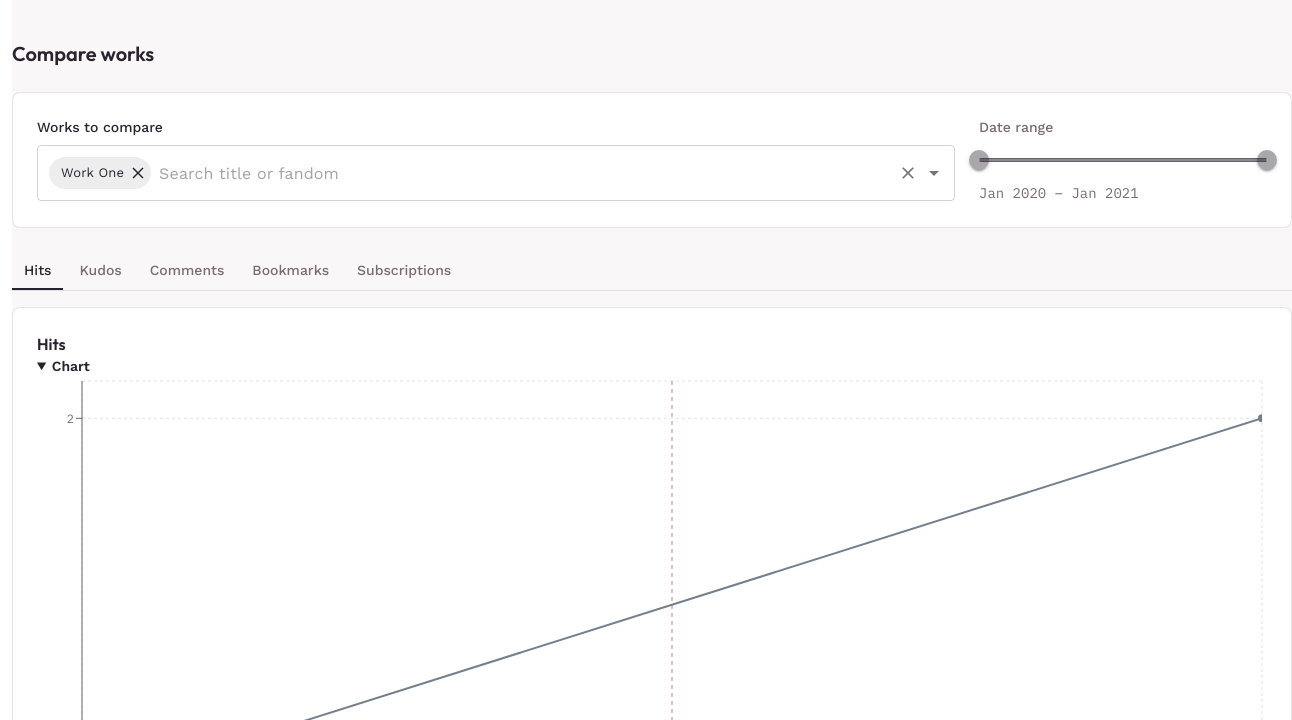
WorkComparisonSection › date-range slider DISABLED state tied to the union-points >2 gate › disables the slider again (resetting the window) once the selection drops back to <= 2 union points
This screenshot has width=1292, height=720.
Click the dropdown labelled "Works to compare" at (522, 173), box x1=154 y1=154 x2=890 y2=192
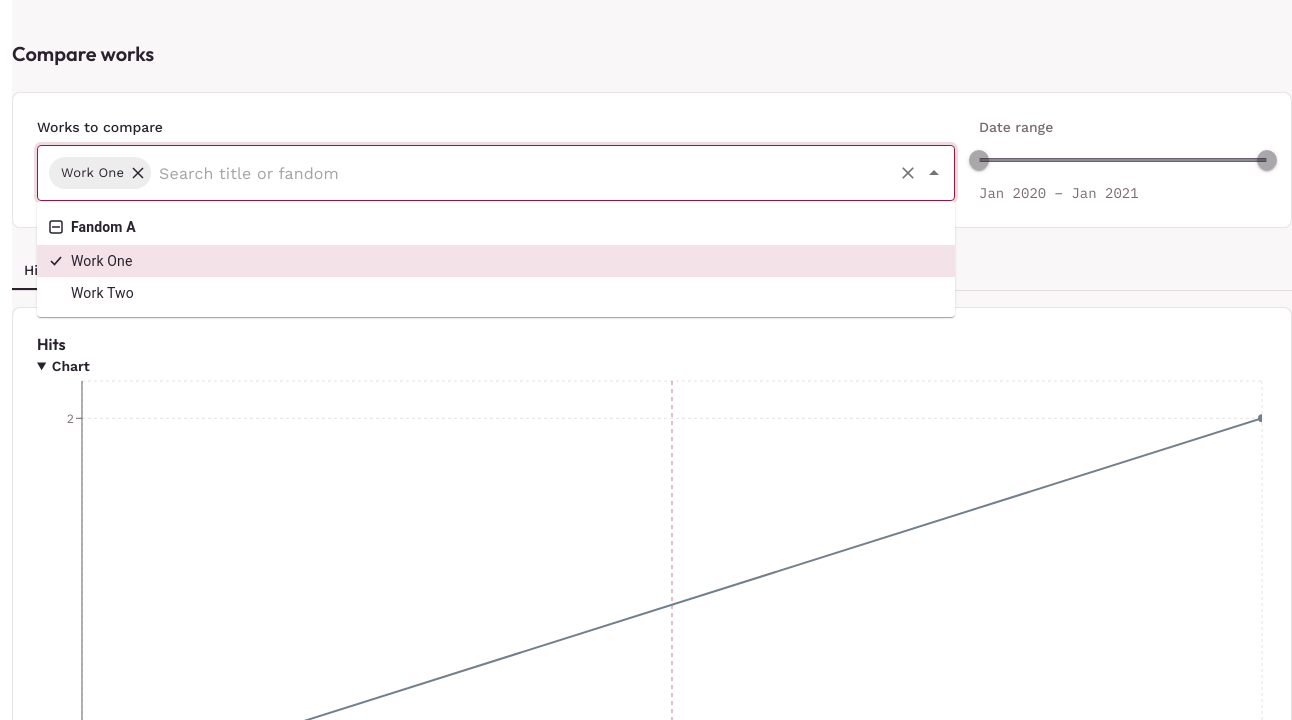
Click the option "Work Two" at (102, 293), box x1=71 y1=285 x2=134 y2=301
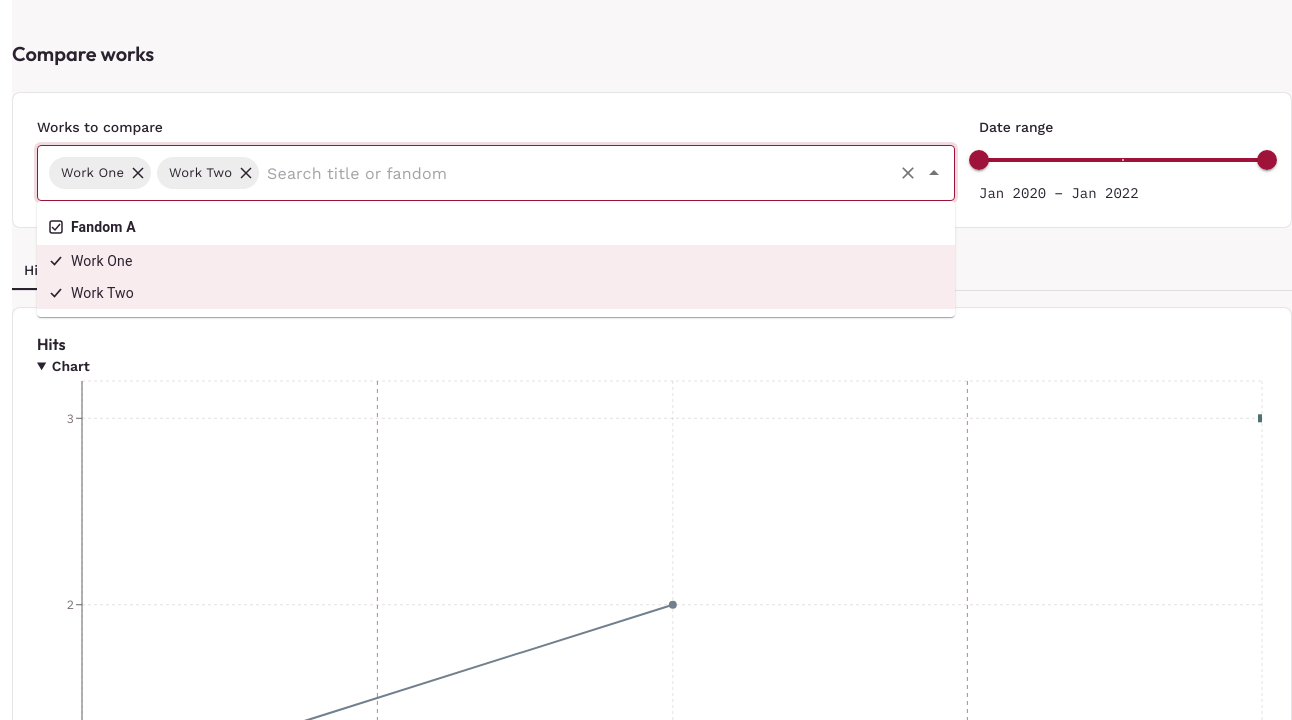
Check: the slider named "Range start" is enabled, box x1=969 y1=150 x2=989 y2=170
Check: the slider named "Range end" is enabled, box x1=1257 y1=150 x2=1277 y2=170
Click the option "Work Two" at (102, 293), box x1=37 y1=277 x2=955 y2=309
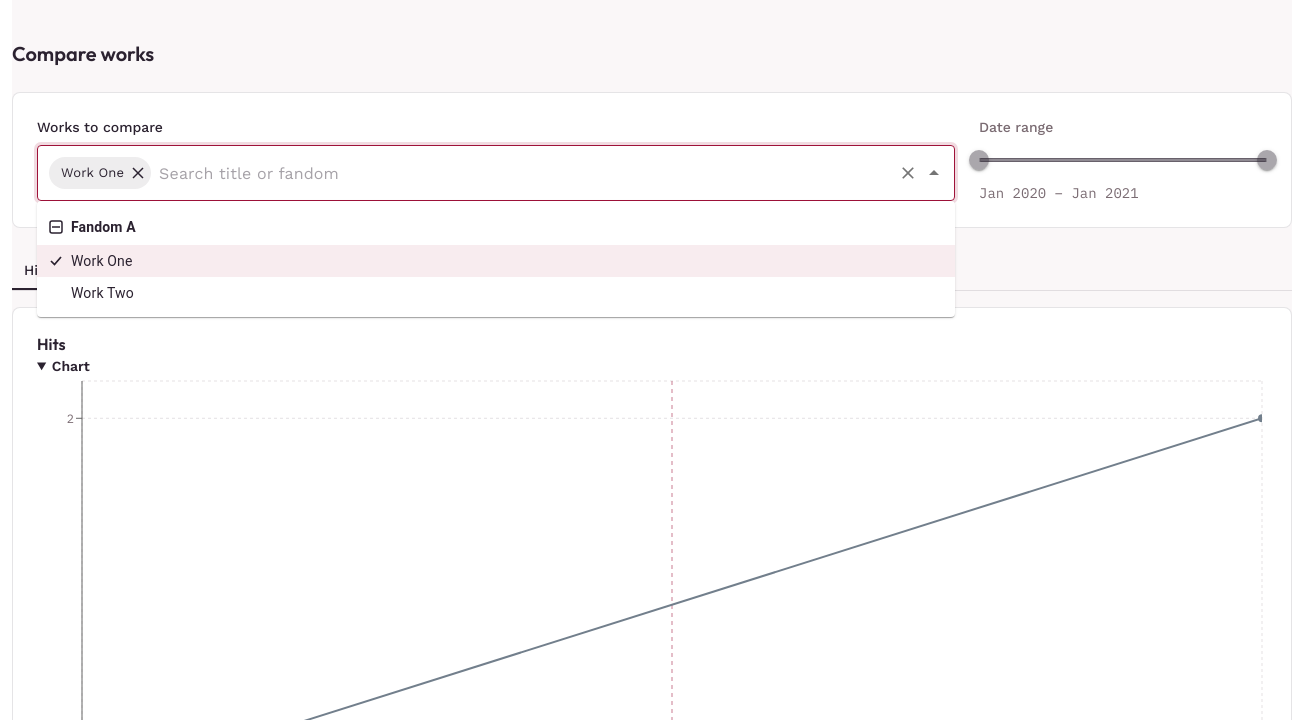
Check: the number of sliders is 2, box x1=969 y1=150 x2=989 y2=170; x1=1257 y1=150 x2=1277 y2=170
Check: the slider named "Range start" is disabled, box x1=969 y1=150 x2=989 y2=170
Check: the slider named "Range end" is disabled, box x1=1257 y1=150 x2=1277 y2=170
